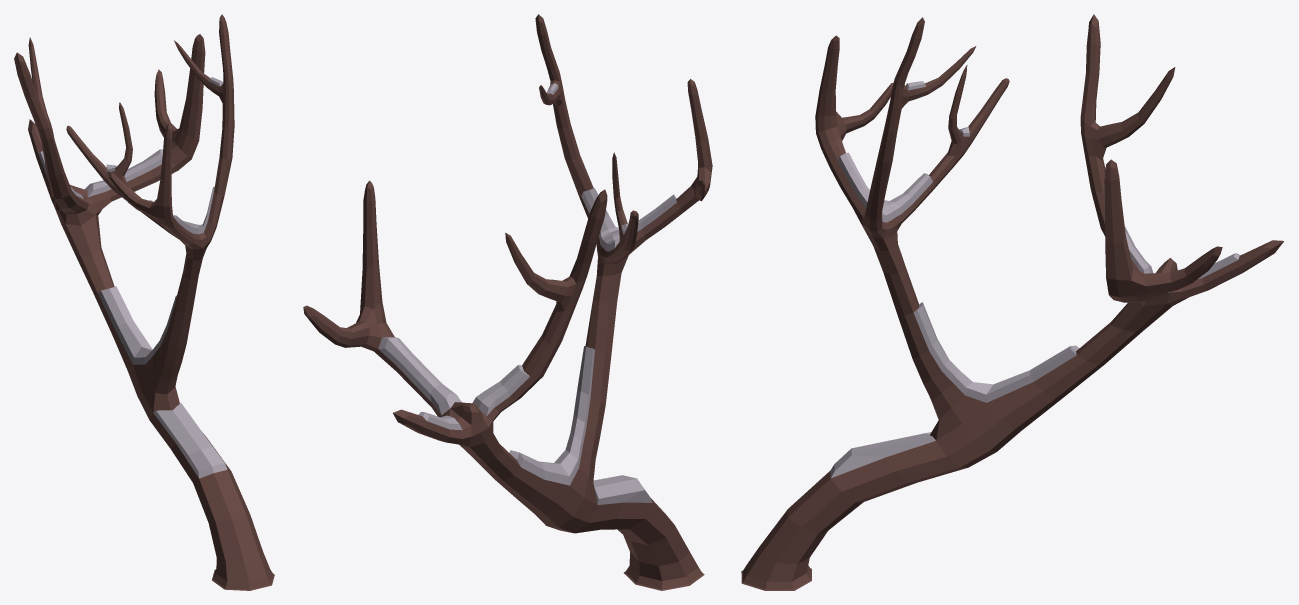
The model's file is Willow_Dead_Snow_2.glb.
The picture shows the model from 3 angles, left to right: view 1: azimuth 30°, elevation 25°; view 2: azimuth 150°, elevation 25°; view 3: azimuth 270°, elevation 25°; orthographic projection. The views are drawn at different scales.
Parts seen in each view (by area): view 1: Willow_Dead_Snow_2_Cube.054; view 2: Willow_Dead_Snow_2_Cube.054; view 3: Willow_Dead_Snow_2_Cube.054.
Part boxes in pixels (x1,y1,x2,y2): Willow_Dead_Snow_2_Cube.054: (14,14,274,590); Willow_Dead_Snow_2_Cube.054: (303,14,712,590); Willow_Dead_Snow_2_Cube.054: (741,14,1283,590).
Size of the model in its own units: 1.17 by 2.84 by 2.4.
